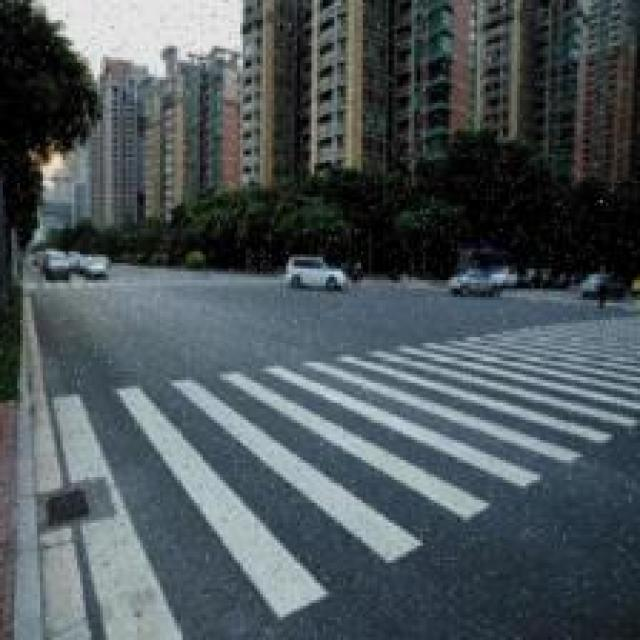crosswalk: (43, 307, 640, 640)
